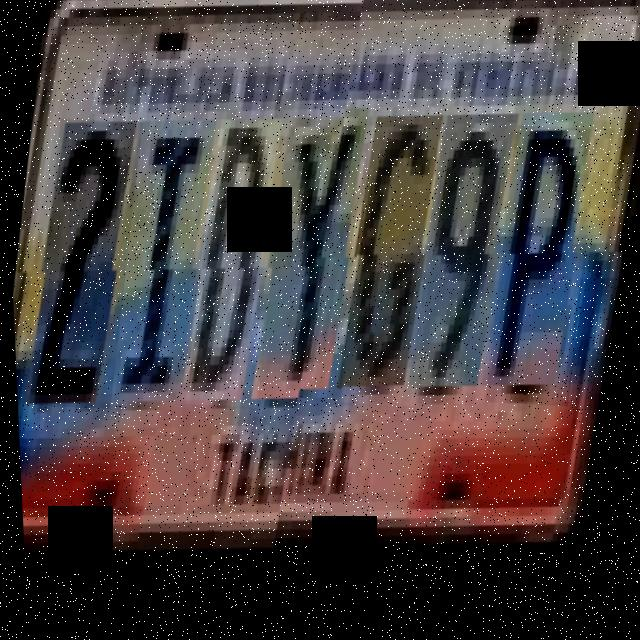2: (15, 113, 152, 418)
9: (397, 129, 531, 424)
D: (171, 117, 297, 419)
G: (327, 129, 456, 423)
I: (91, 114, 231, 419)
P: (473, 130, 607, 425)
Y: (241, 117, 382, 423)
